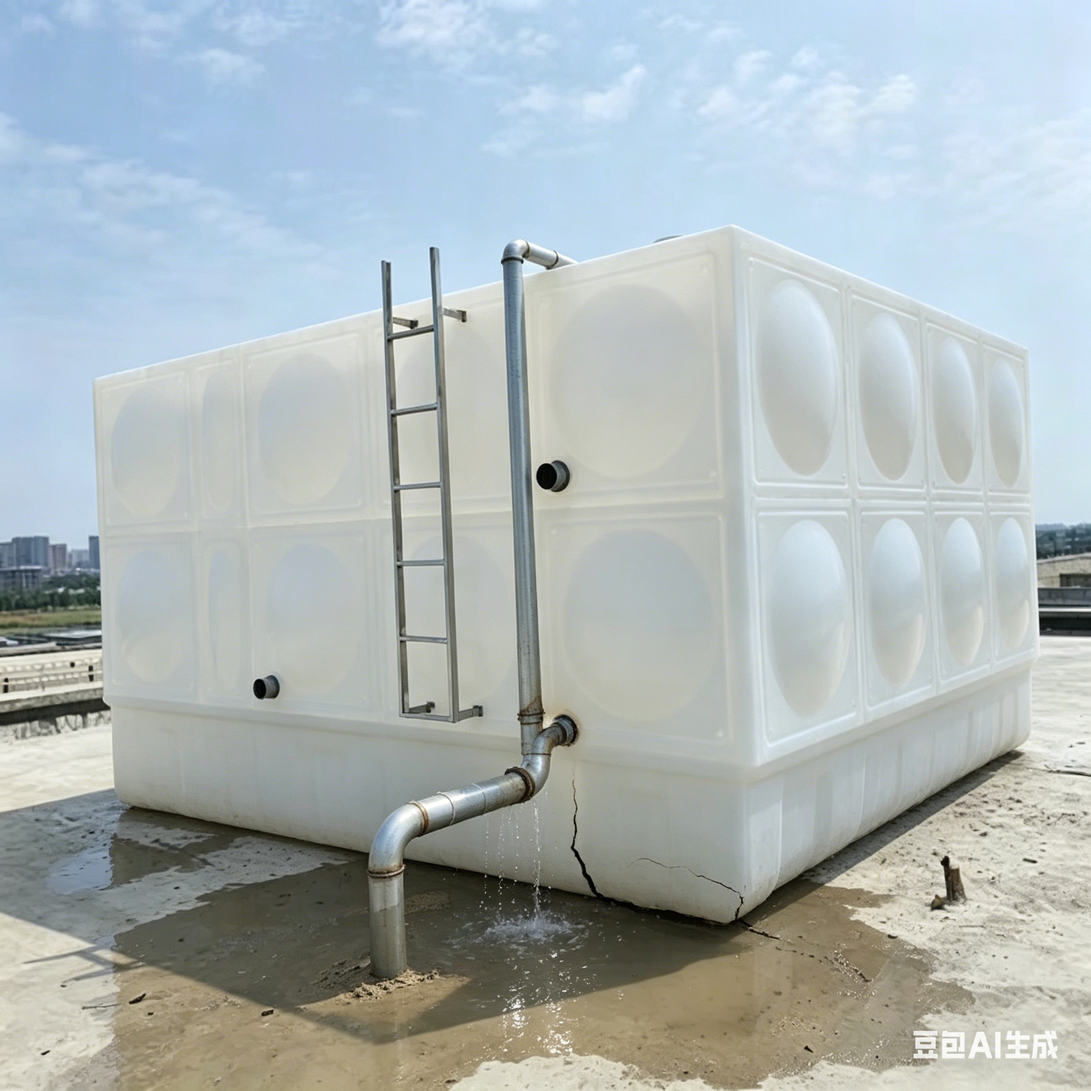Leakage: (578, 911, 959, 1091), (112, 919, 449, 1087), (471, 762, 574, 1091), (251, 856, 471, 906), (46, 836, 174, 886)
